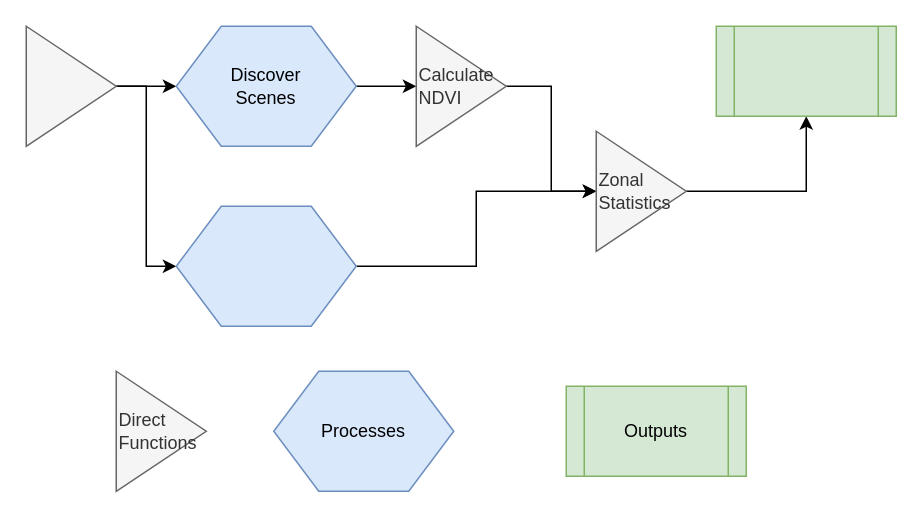
This 923x518 diagram has some shape labels left out. The box of each missing label's shape, as (x1, y1, x2, y2) in pixels:
Define an AOI: (25, 25, 116, 146)
Download Land cover: (175, 205, 356, 326)
Present Findings: (715, 25, 896, 116)
